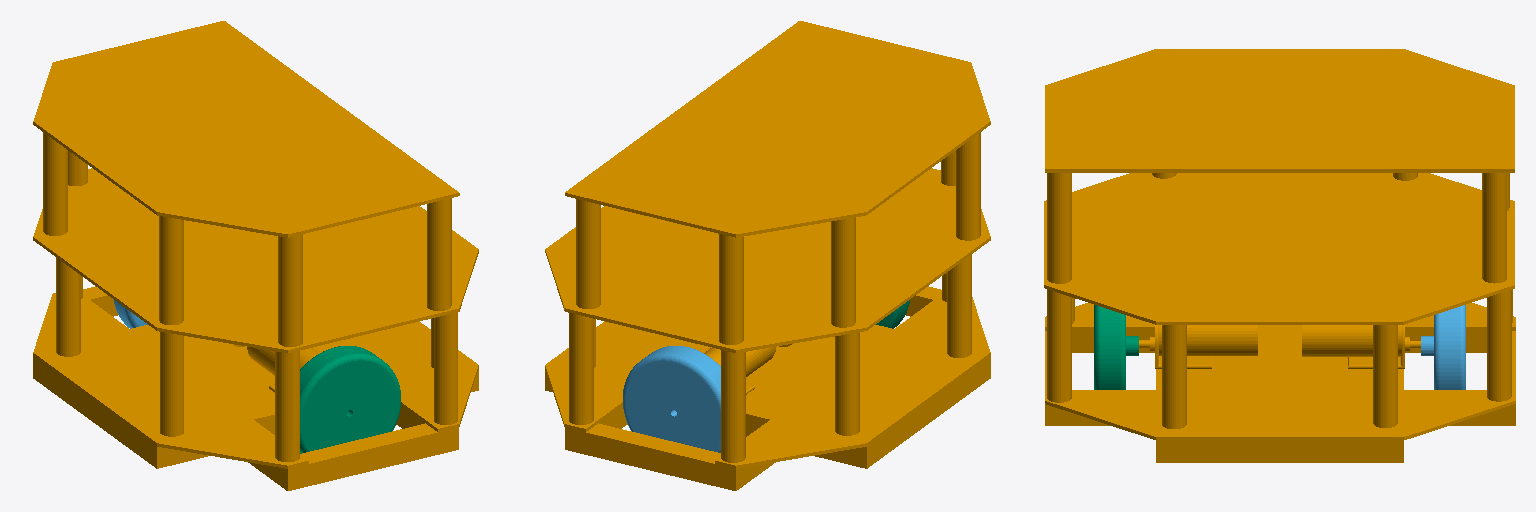
The robot description file, URDF, robot "jetPR":
<?xml version="1.0"?>

<robot name="jetPR">

  <link name="base_link">
    <visual>
      <origin rpy="1.5707963 0 -1.5707963" xyz="0.3725 0.19 -0.25"/>
      <geometry>
        <mesh filename="package://jetPR_description/meshes/chassisv2.STL"  scale="0.001 0.001 0.001"/>
      </geometry>
    </visual>
  </link>
  
  <link name="left_wheel">
    <visual>
      <origin rpy="1.5707963 0 0" xyz="-0.05 0.0 -0.05"/>
      <geometry>
        <mesh filename="package://jetPR_description/meshes/wheel.STL"  scale="0.001 0.001 0.001"/>
      </geometry>
    </visual>
  </link>
  
  <link name="right_wheel">
    <visual>
      <origin rpy="1.5707963 0 3.141592" xyz="0.05 0.0 -0.05"/>
      <geometry>
        <mesh filename="package://jetPR_description/meshes/wheel.STL"  scale="0.001 0.001 0.001"/>
      </geometry>
    </visual>
  </link>
  
  <link name="camera_link">
  </link>
  
  <joint name="left" type="continuous">
    <parent link="base_link"/>
    <child link="left_wheel"/>
    <origin xyz="0 0.15 0.05" rpy="0 0 0" />
    <axis xyz="0.0 1.0 0" />
  </joint>
  
  <joint name="right" type="continuous">
    <parent link="base_link"/>
    <child link="right_wheel"/>
    <origin xyz="0 -0.15 0.05" rpy="0 0 0" />
    <axis xyz="0.0 1.0 0" />
  </joint>
  
  <joint name="camera_base_joint" type="continuous">
    <parent link="base_link"/>
    <child link="camera_link"/>
    <origin xyz="0.035 0 0.285" rpy="0 0 0" />
    <axis xyz="0.0 1.0 0" />
  </joint>
  
  
</robot>

--- What the picture shows (computed from the rendered views, not written in the file) ---
Views: 3 orthographic renders of the robot side by side, from view 1: azimuth 30°, elevation 25°; view 2: azimuth 150°, elevation 25°; view 3: azimuth 270°, elevation 25°.
Model jetPR with 4 links and 3 joints (3 continuous), rooted at base_link, posed all joints at 0.
Visible links, largest first — view 1: base_link, right_wheel; view 2: base_link, left_wheel; view 3: base_link, left_wheel, right_wheel.
Boxes of the visible links, x1,y1,x2,y2 form: base_link: (33,21,478,490); right_wheel: (300,346,400,453); base_link: (545,21,990,490); left_wheel: (623,346,720,452); base_link: (1044,49,1515,462); left_wheel: (1421,305,1465,389); right_wheel: (1094,305,1138,389).
Size in the robot's own frame: 0.3 by 0.3802 by 0.2442 metres.
Meshes: 2 distinct files referenced, 3 mesh visuals loaded (2 binary STL).